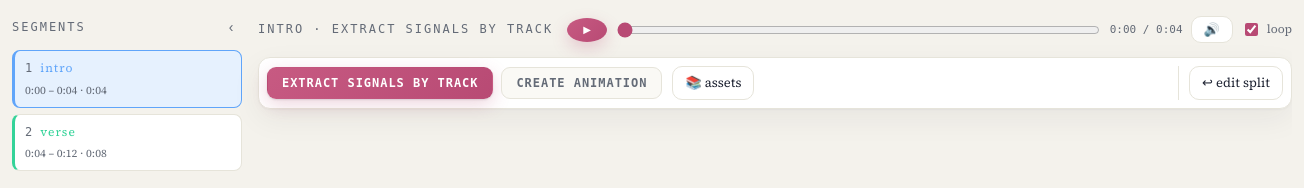
Scenario: Studio shell › collapses and reopens the segment rail
Expected: the element with class "seg-rail" is shown, [12,16,242,171]
Click the button titled "Hide segments" at (231, 27), box [220,16,242,38]
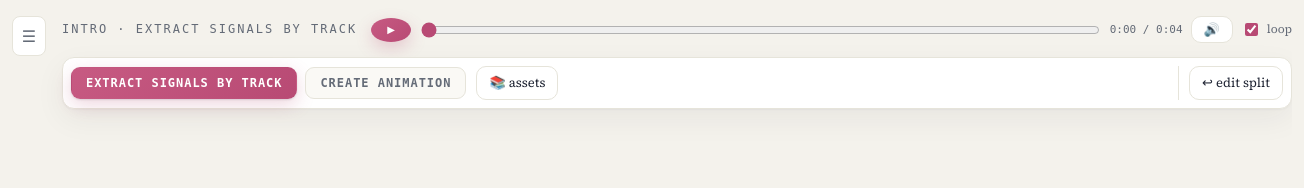
Expected: the element with class "seg-rail" is gone
Click the button titled "Show segments" at (29, 36), box [12,16,46,56]
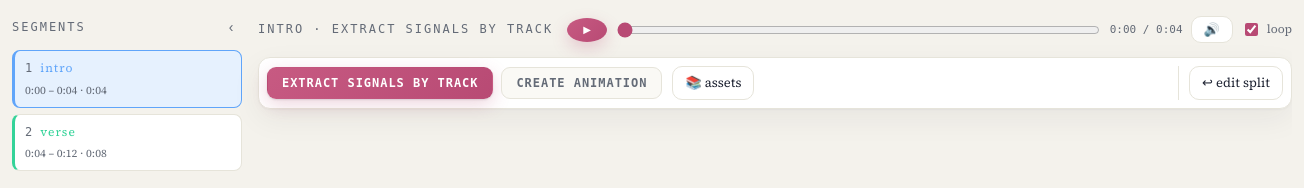
Expected: the element with class "seg-rail" is shown, [12,16,242,171]
